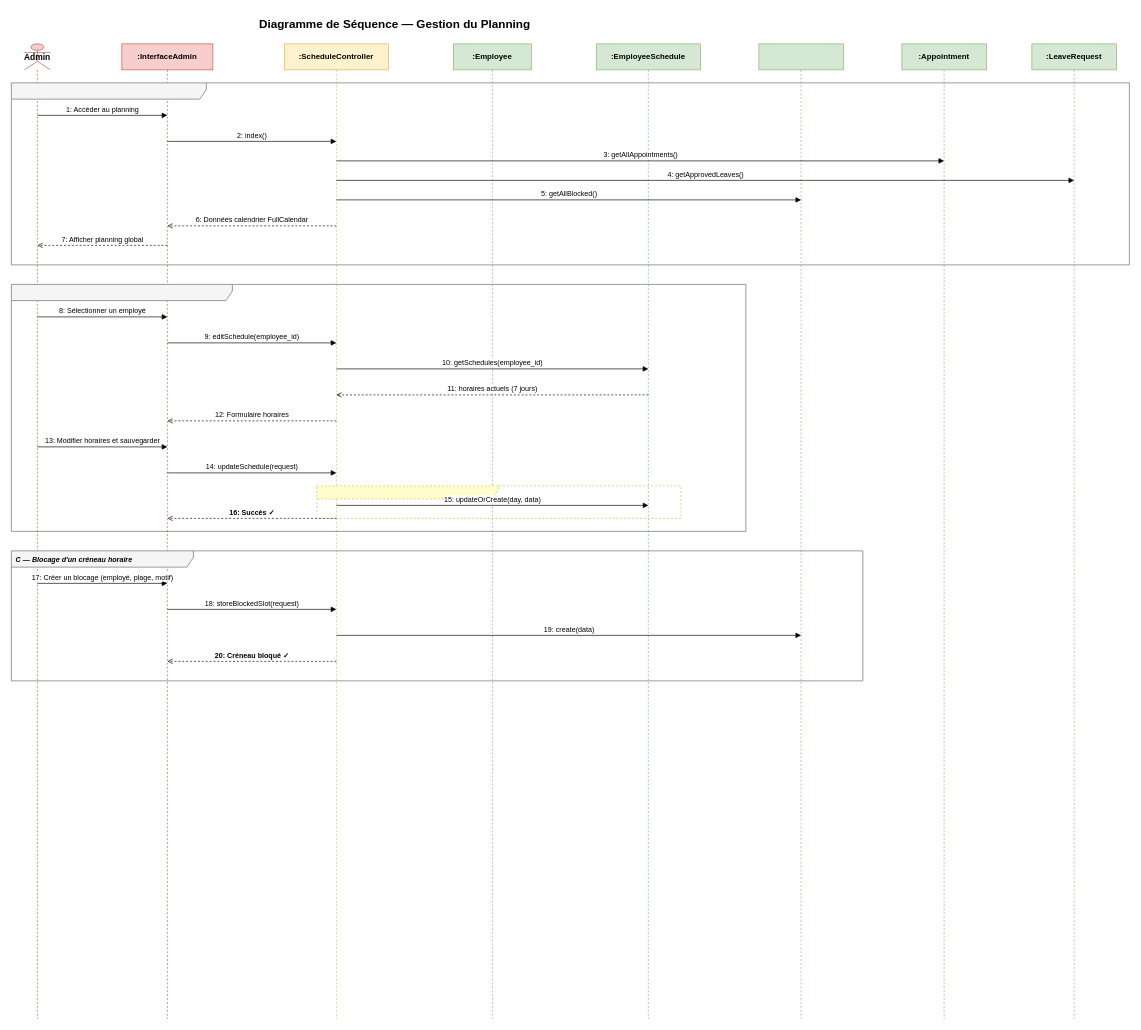
The diagram is 1141 pixels wide and 1030 high, and some of its shapes have lost their labels. Here are the shapes that lost their labels. From the top down, the box of each, then its label:
(11, 82, 1129, 265): A — Consultation du planning global
(11, 284, 746, 531): B — Modification des horaires d'un employé
(316, 485, 681, 518): loop [pour chaque jour de la semaine]
(758, 43, 843, 1019): :BlockedSlot
